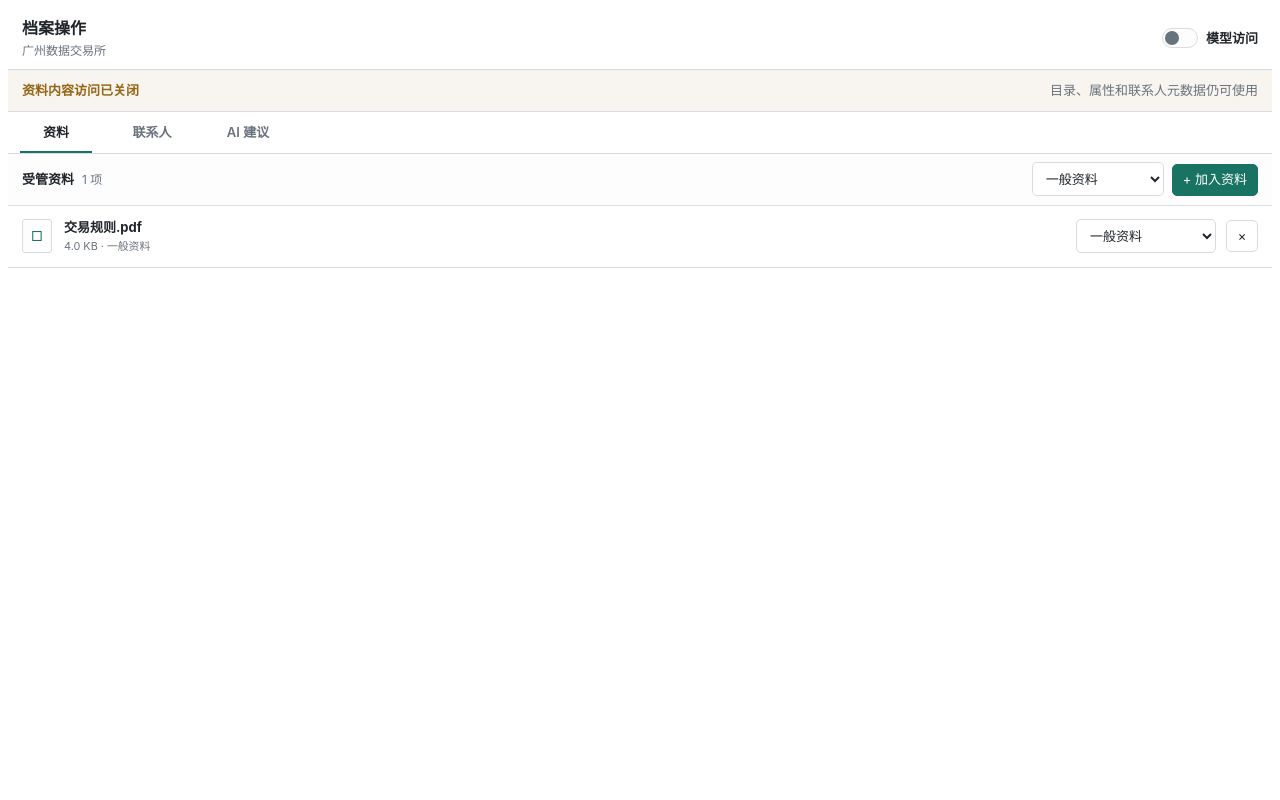
DossierOperations › renders an unknown preview action as read-only and disables commit
Click the button "+ 加入资料" at [1215, 180], box 1172,164 -> 1258,196
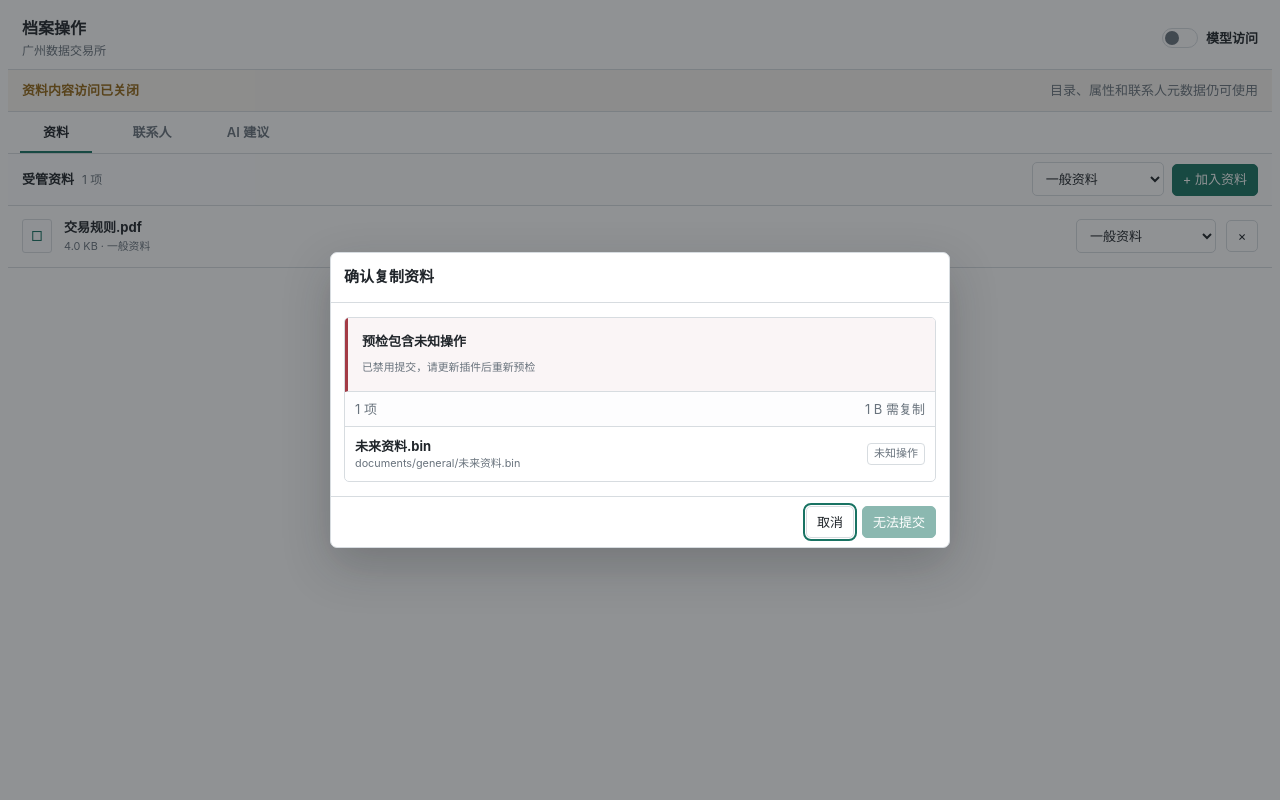
Check: the text "预检包含未知操作" is shown, box 362,333 -> 466,349
Check: the button "无法提交" is disabled, box 862,506 -> 936,538
